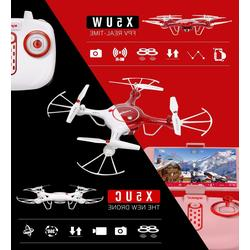drone: (41, 75, 214, 178), (140, 12, 235, 37), (16, 185, 105, 211)
